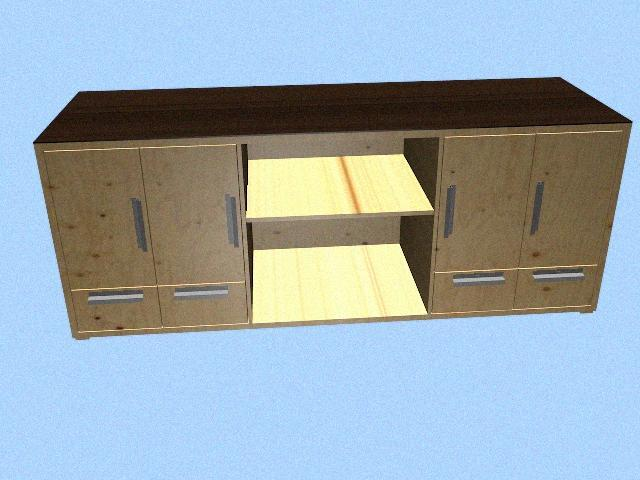cabinet_door: (149, 146, 242, 284), (57, 149, 149, 288), (440, 136, 528, 270), (528, 132, 610, 266), (160, 284, 248, 326), (74, 289, 160, 330), (434, 271, 517, 312), (516, 267, 594, 308)
handle: (81, 287, 149, 311), (124, 194, 149, 257), (217, 189, 242, 251), (166, 284, 236, 305), (527, 266, 589, 289), (447, 270, 511, 291), (528, 179, 549, 240), (441, 179, 459, 244)
